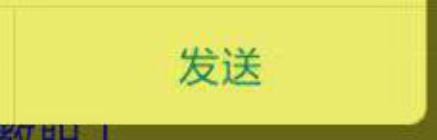Button: (1, 1, 436, 139)
